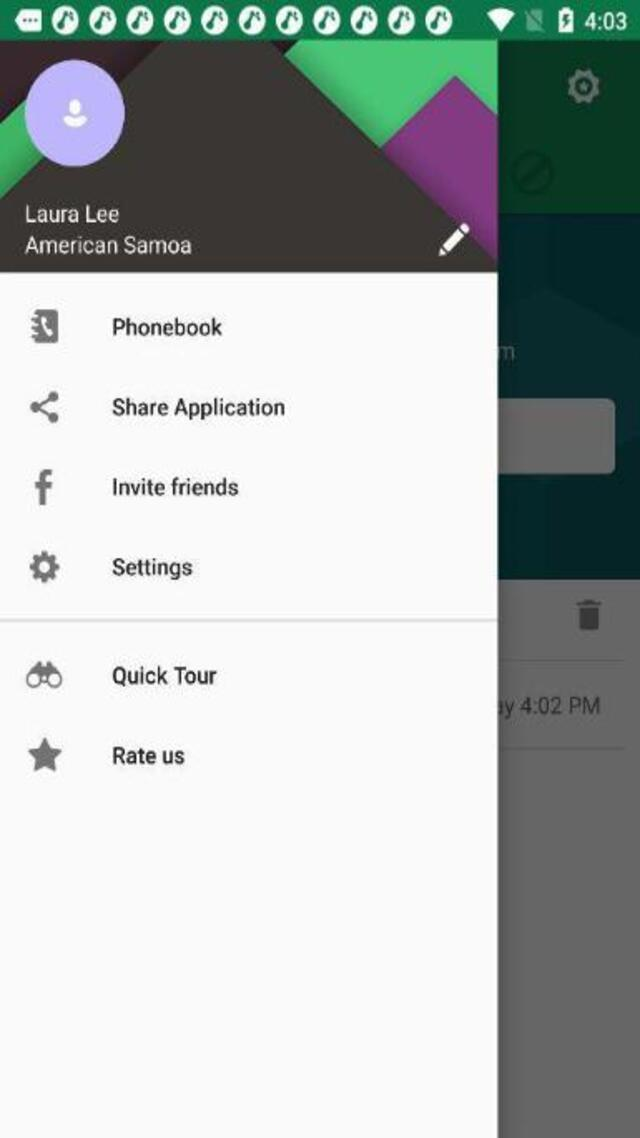Icon: (24, 58, 125, 167), (28, 737, 62, 771), (436, 222, 468, 258), (24, 659, 62, 689), (28, 549, 60, 584), (31, 390, 59, 424), (34, 468, 52, 506)
Text: (112, 395, 284, 418), (25, 236, 191, 256), (114, 476, 238, 498), (113, 316, 223, 338), (112, 665, 217, 686), (112, 556, 194, 581), (26, 204, 120, 222), (114, 745, 185, 763), (31, 308, 59, 342)
